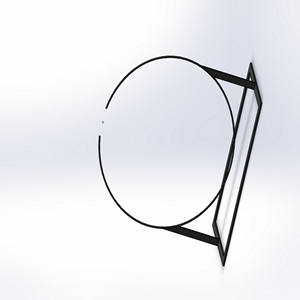circle: (95, 53, 263, 268)
